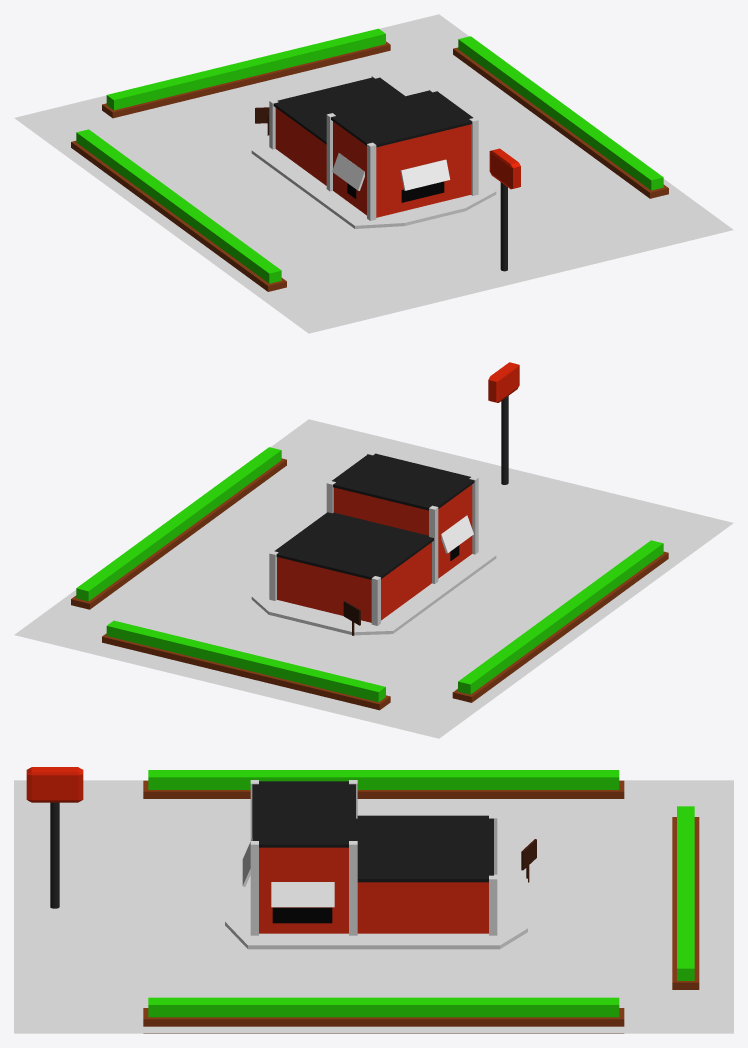
File: DriveThruMenuV3.fbx
The picture shows the model from 3 angles, top to bottom: view 1: azimuth 30°, elevation 25°; view 2: azimuth 150°, elevation 25°; view 3: azimuth 270°, elevation 25°; orthographic projection. The views are drawn at different scales.
Visible parts, largest first — view 1: Ground, Building, Cube.014, Cube.011, Cube.018, Cube.015, Cube.008, Cube.012, Cube.013, Cube.017, Cube.016, Cube.007 (+6 smaller); view 2: Ground, Building, Cube.012, Cube.014, Cube.011, Cube.018, Cube.015, Cube.008, Cube.013, Cube.007, Cube.017, Cube.016 (+3 smaller); view 3: Ground, Building, Cube.015, Cube.012, Cube.018, Cube.008, Cube.011, Cube.016, Cube.017, Cube.014, Cube.007, Cube.013 (+5 smaller).
Part boxes in pixels (x1,y1,x2,y2): Ground: (14,14,733,333); Building: (275,108,470,217); Cube.014: (106,28,385,110); Cube.011: (331,90,473,147); Cube.018: (76,129,281,283); Cube.015: (458,36,663,190); Cube.008: (251,135,496,228); Cube.012: (273,77,404,144); Cube.013: (102,41,390,118); Cube.017: (71,140,286,291); Cube.016: (453,47,668,198); Cube.007: (269,74,478,220); Ground: (14,419,733,738); Building: (277,484,472,622); Cube.012: (274,512,433,579); Cube.014: (106,620,385,702); Cube.011: (332,453,474,510); Cube.018: (458,540,663,694); Cube.015: (76,447,281,601); Cube.008: (251,546,496,635); Cube.013: (102,633,390,710); Cube.007: (269,451,478,625); Cube.017: (452,551,668,702); Cube.016: (71,458,286,609); Ground: (14,780,733,1033); Building: (259,847,488,933); Cube.015: (148,997,619,1017); Cube.012: (356,815,493,882); Cube.018: (148,770,619,789); Cube.008: (225,861,527,949); Cube.011: (252,781,355,847); Cube.016: (143,1008,624,1033); Cube.017: (143,780,624,798); Cube.014: (677,806,694,980); Cube.007: (250,780,497,935); Cube.013: (672,817,699,989).
Size of the model in its own units: 140549 by 47123 by 168822.
